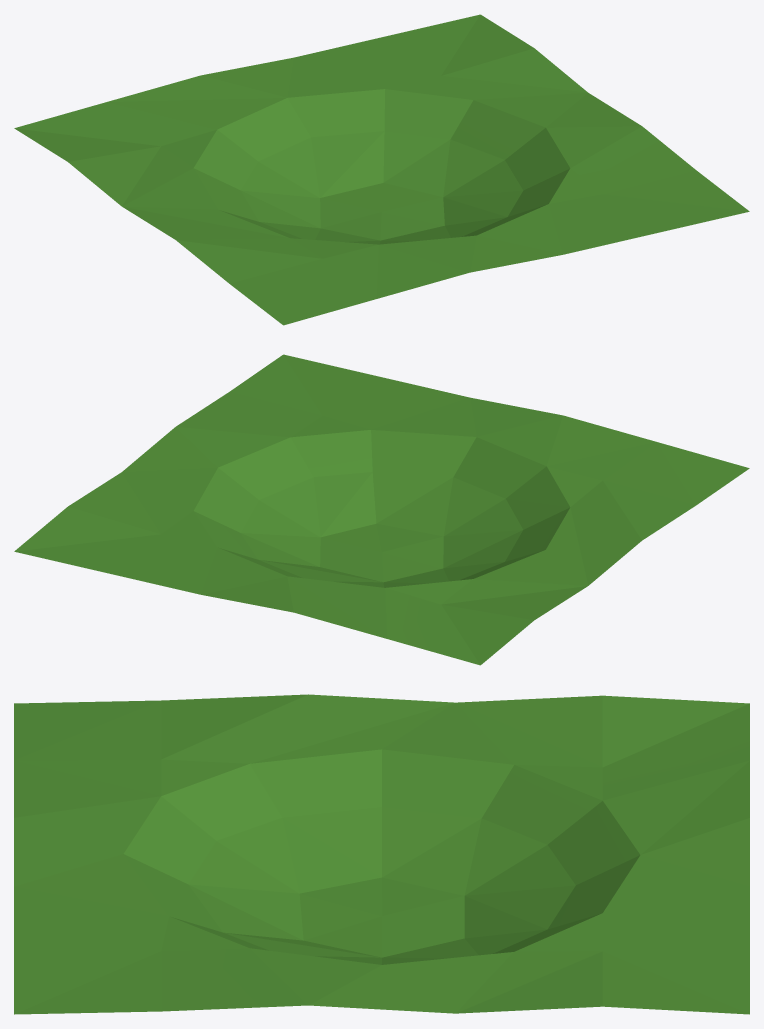
Rendered from terrain-plane-lake.glb.
The picture shows the model from 3 angles, top to bottom: view 1: azimuth 30°, elevation 25°; view 2: azimuth 150°, elevation 25°; view 3: azimuth 270°, elevation 25°; orthographic projection. The views are drawn at different scales.
Visible parts, largest first — view 1: terrain-plane-lake; view 2: terrain-plane-lake; view 3: terrain-plane-lake.
Part boxes in pixels (x1,y1,x2,y2): terrain-plane-lake: [14, 14, 749, 325]; terrain-plane-lake: [14, 354, 749, 665]; terrain-plane-lake: [14, 694, 749, 1014].
Size of the model in its own units: 30 by 3.12 by 30.
1 material, 1 textured.
